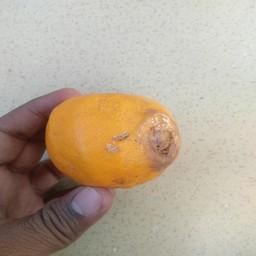Bad_orange: (36, 90, 189, 194)
